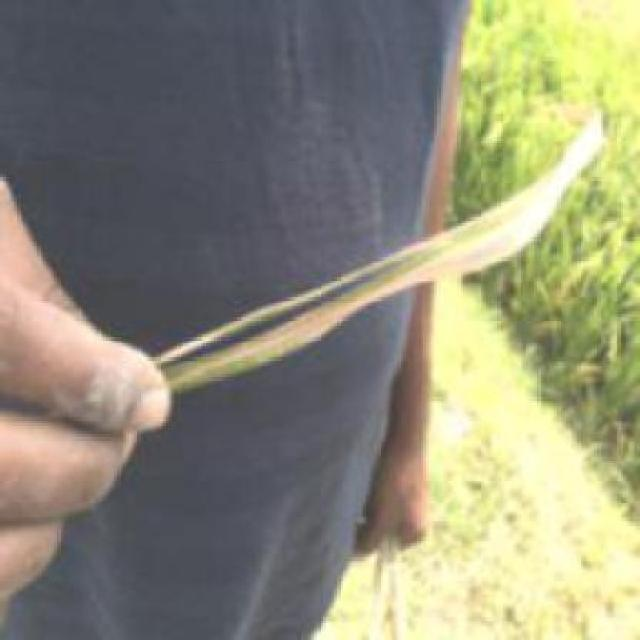Brown_Spot: (182, 203, 564, 332)
